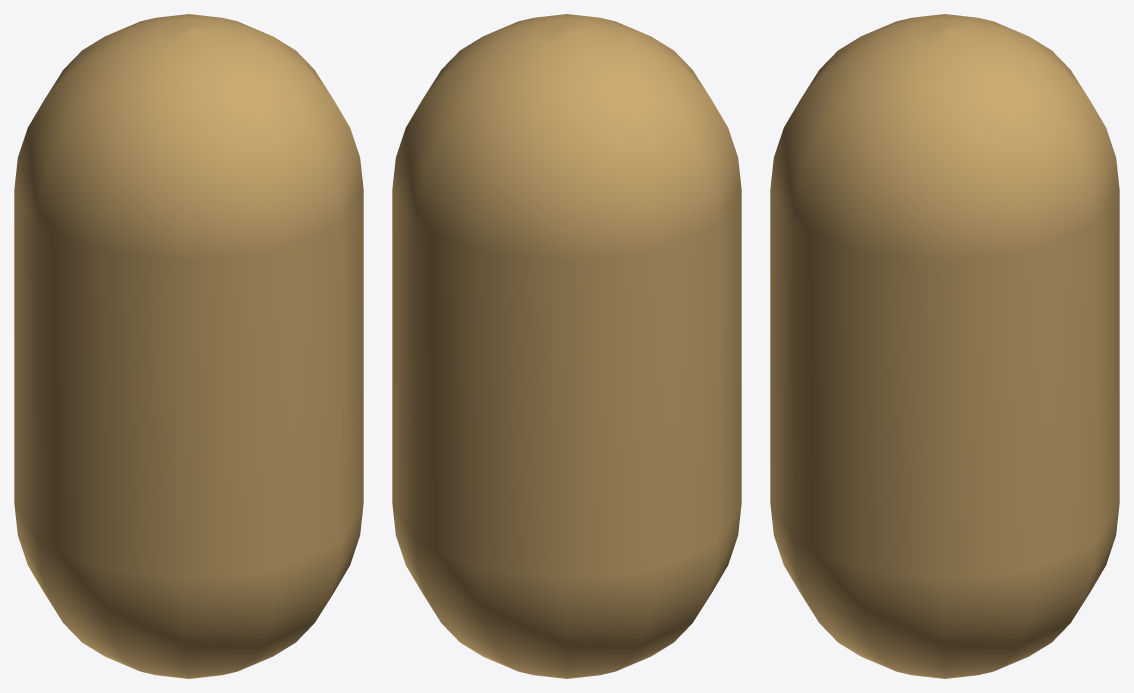
The model's file is p0114-posokh-igumenskiy.glb.
The picture shows the model from 3 angles, left to right: view 1: azimuth 30°, elevation 25°; view 2: azimuth 150°, elevation 25°; view 3: azimuth 270°, elevation 25°; orthographic projection.
Visible parts, largest first — view 1: p0114-posokh-igumenskiy; view 2: p0114-posokh-igumenskiy; view 3: p0114-posokh-igumenskiy.
Boxes of the visible parts, x1,y1,x2,y2 form: p0114-posokh-igumenskiy: (14, 14, 363, 678); p0114-posokh-igumenskiy: (392, 14, 741, 678); p0114-posokh-igumenskiy: (770, 14, 1119, 678).
Size of the model in its own units: 0.8 by 1.6 by 0.8.
